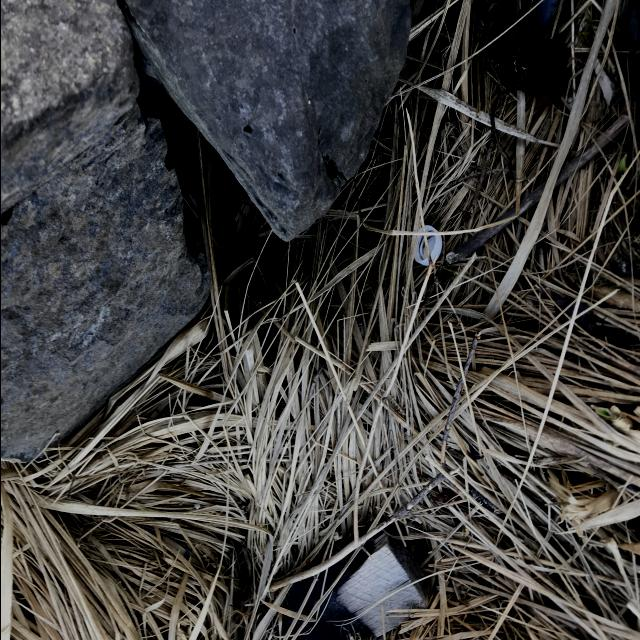Plastic bottle cap: (413, 225, 441, 266)
